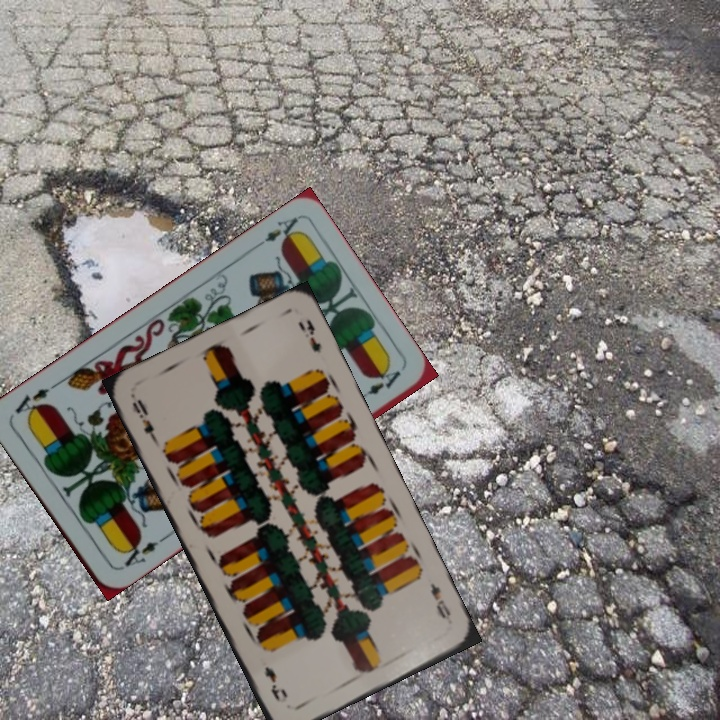E9: (128, 395, 162, 448), (426, 579, 456, 627)
EA: (248, 213, 303, 253), (115, 533, 167, 573)
